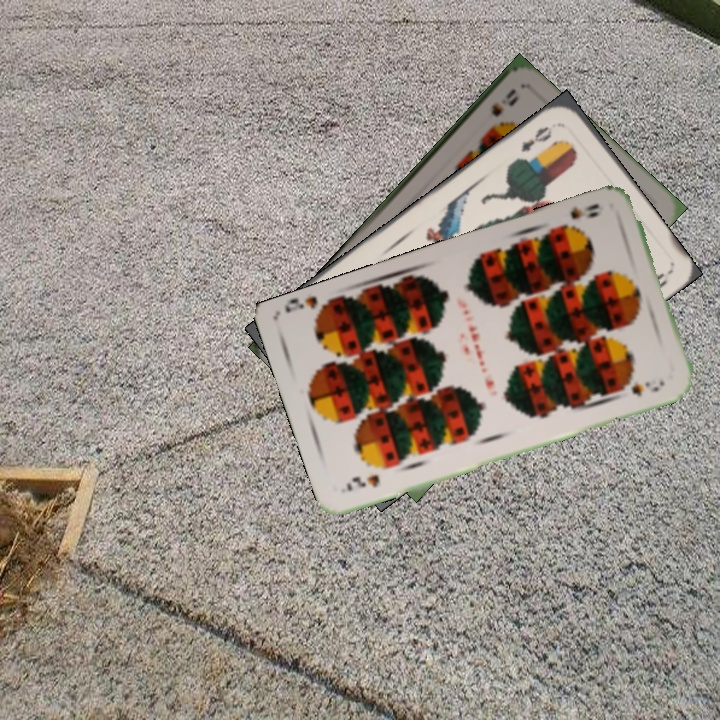EO: (516, 122, 555, 155)
S9: (556, 199, 602, 235), (487, 85, 522, 120), (342, 470, 383, 494)
